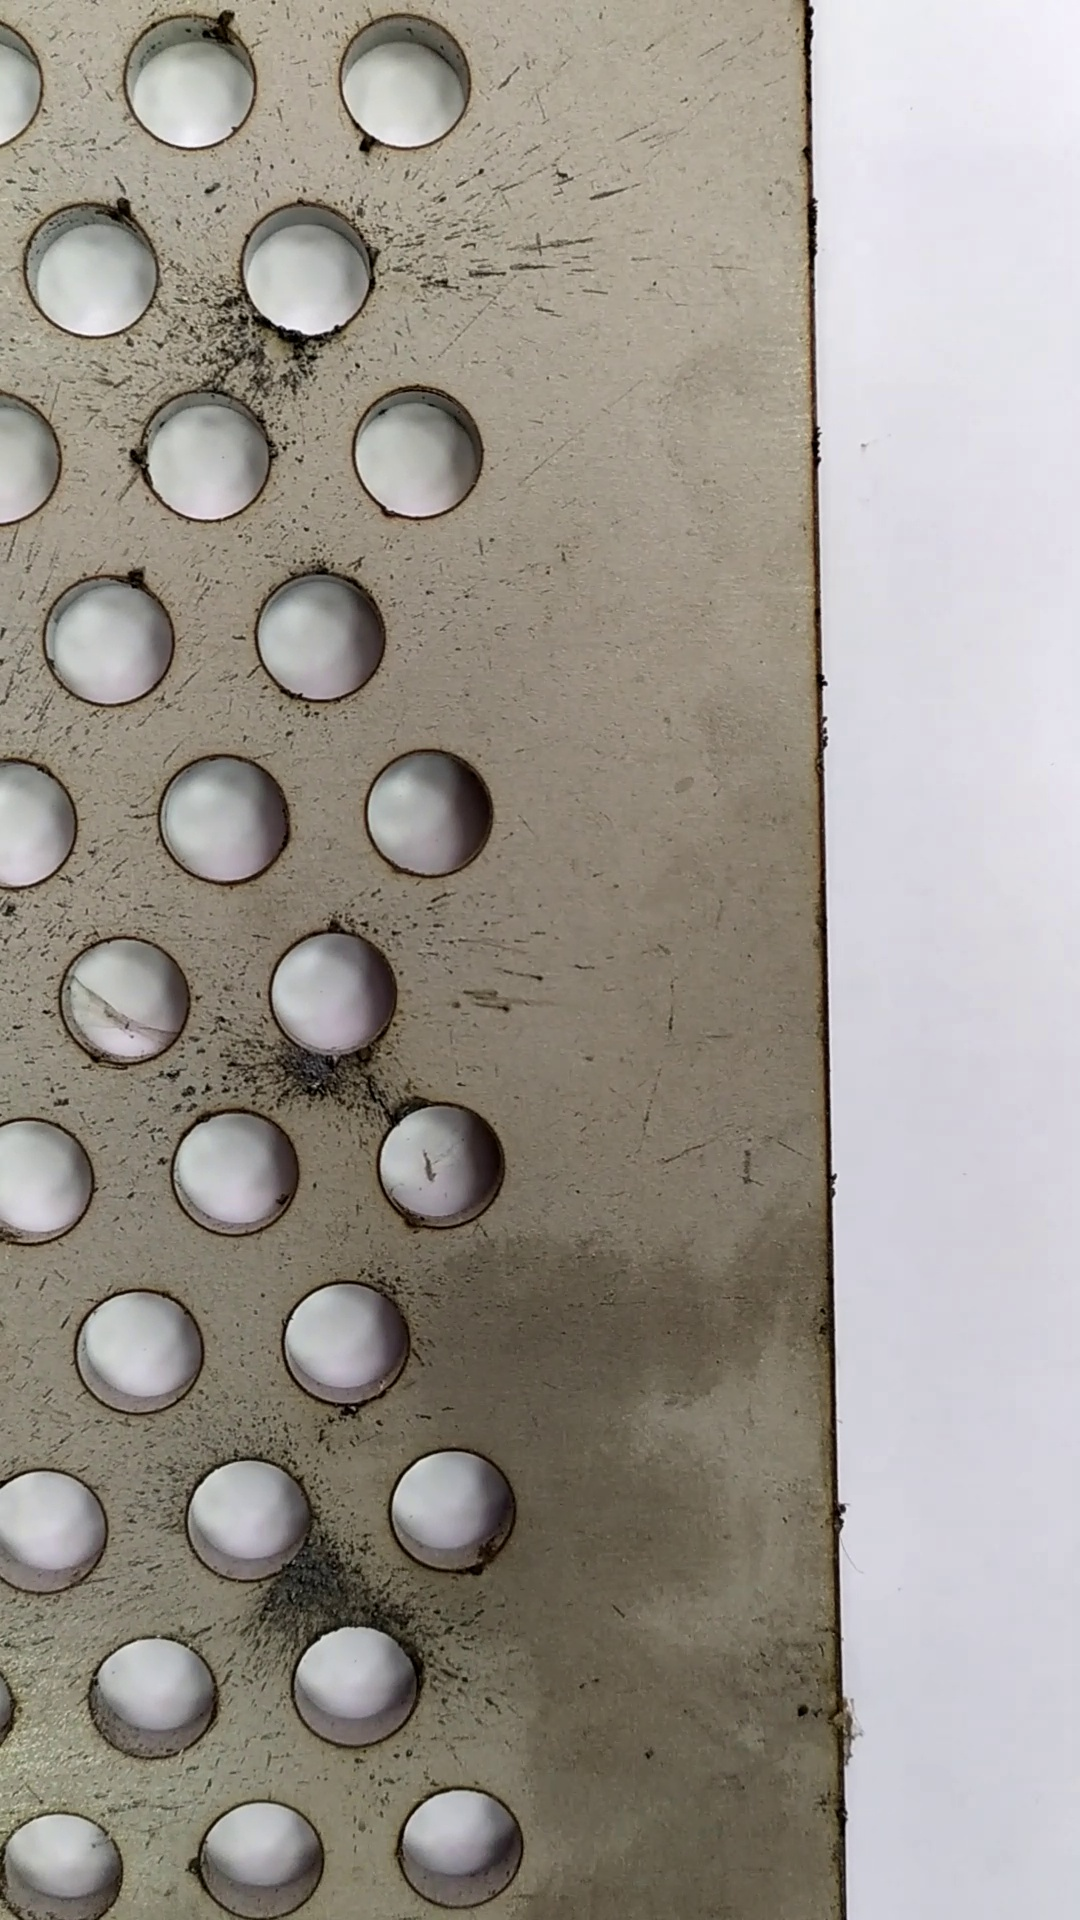Hole: (45, 926, 218, 1081), (109, 1, 276, 156), (224, 193, 386, 349), (22, 183, 175, 349), (326, 3, 483, 158), (245, 562, 394, 719), (59, 1276, 216, 1425), (342, 373, 496, 524), (30, 570, 187, 717), (128, 382, 281, 530), (377, 1443, 531, 1585), (71, 1633, 236, 1766), (371, 1093, 520, 1240), (145, 750, 295, 895), (277, 1273, 429, 1414), (173, 1451, 322, 1593), (265, 920, 410, 1065), (351, 744, 504, 880), (177, 1791, 336, 1920), (169, 1105, 314, 1246), (386, 1778, 535, 1913), (289, 1622, 429, 1756)
